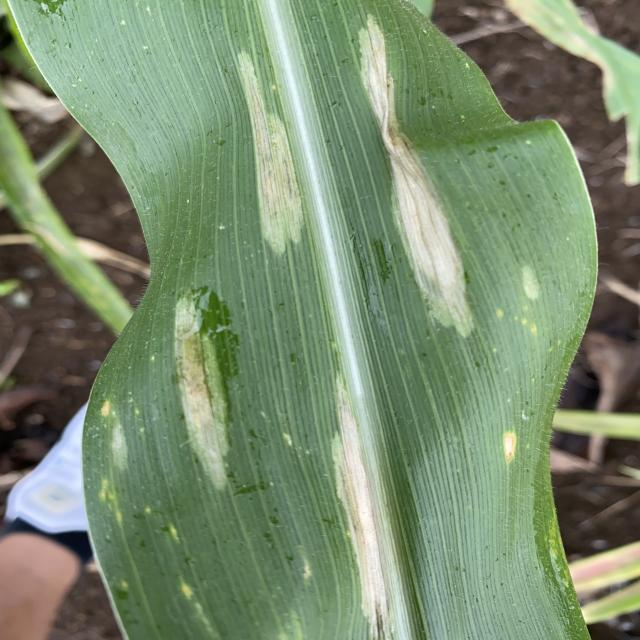Corn_Leaf_Blight: (78, 2, 594, 640)
